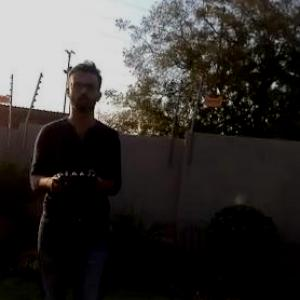follow: (26, 54, 125, 299)
